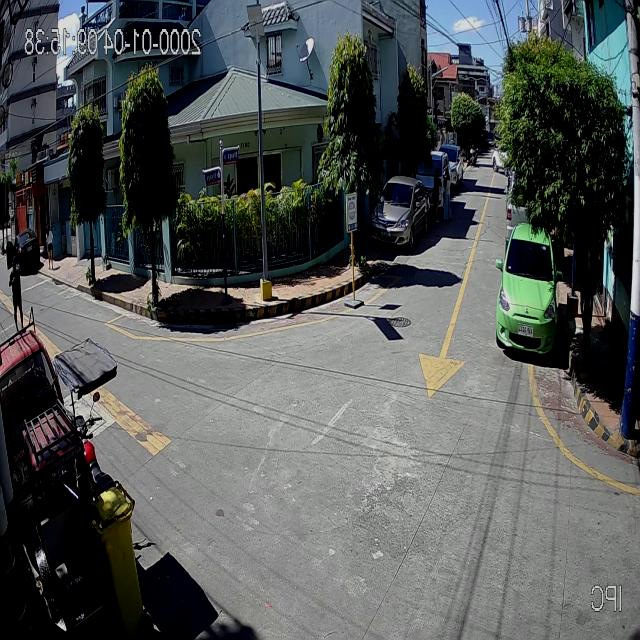walking: (8, 255, 23, 329), (46, 224, 54, 272)
